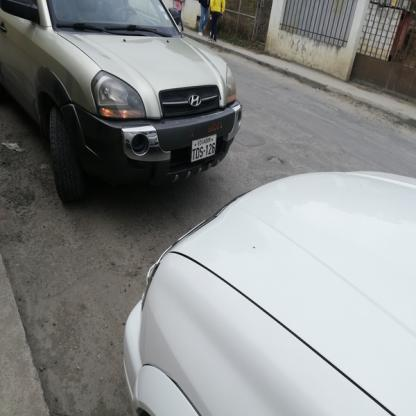Placa: (187, 132, 226, 165)
